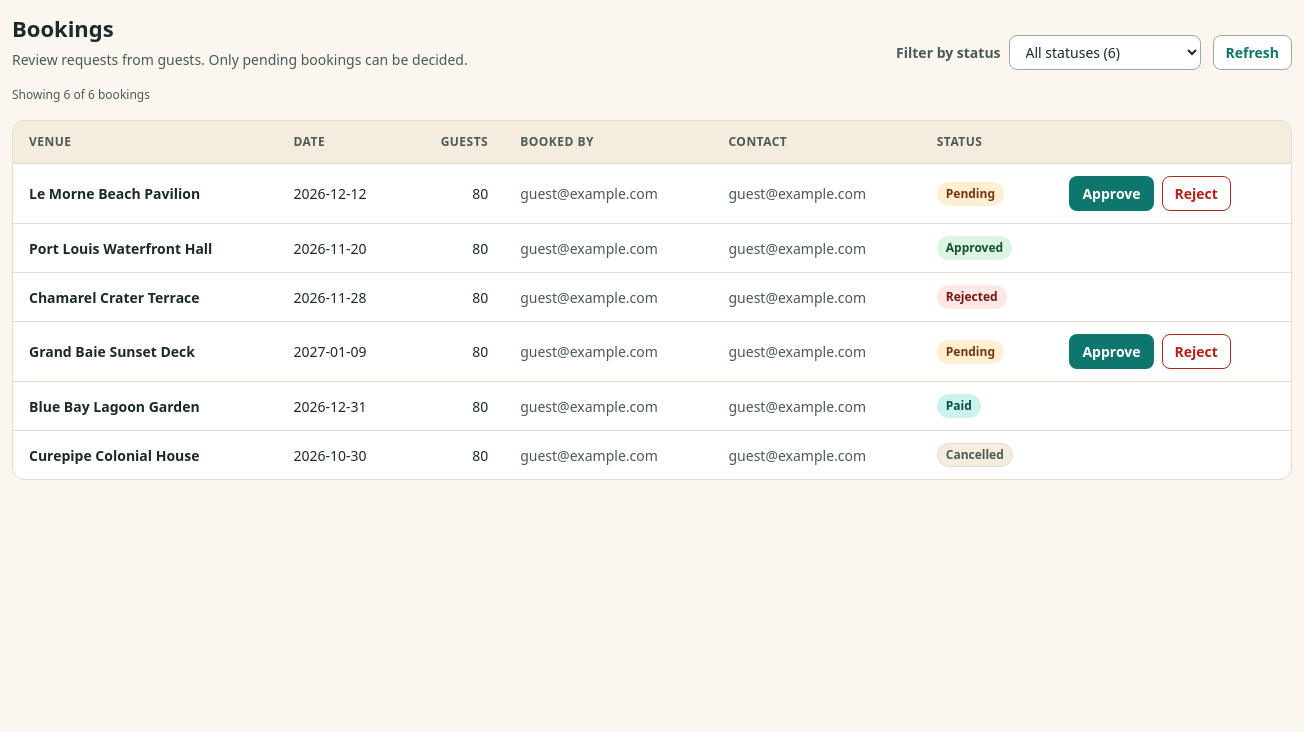
Test: BookingsPanel: approve / reject › rolls the row back and explains why when the server refuses
The width and height of the screenshot is (1304, 732).
Check: the table is shown, box 13,121 -> 1291,479
Click the button "Approve" in the row of "Le Morne Beach Pavilion": coordinates (1111, 194) 1069,176 -> 1154,211
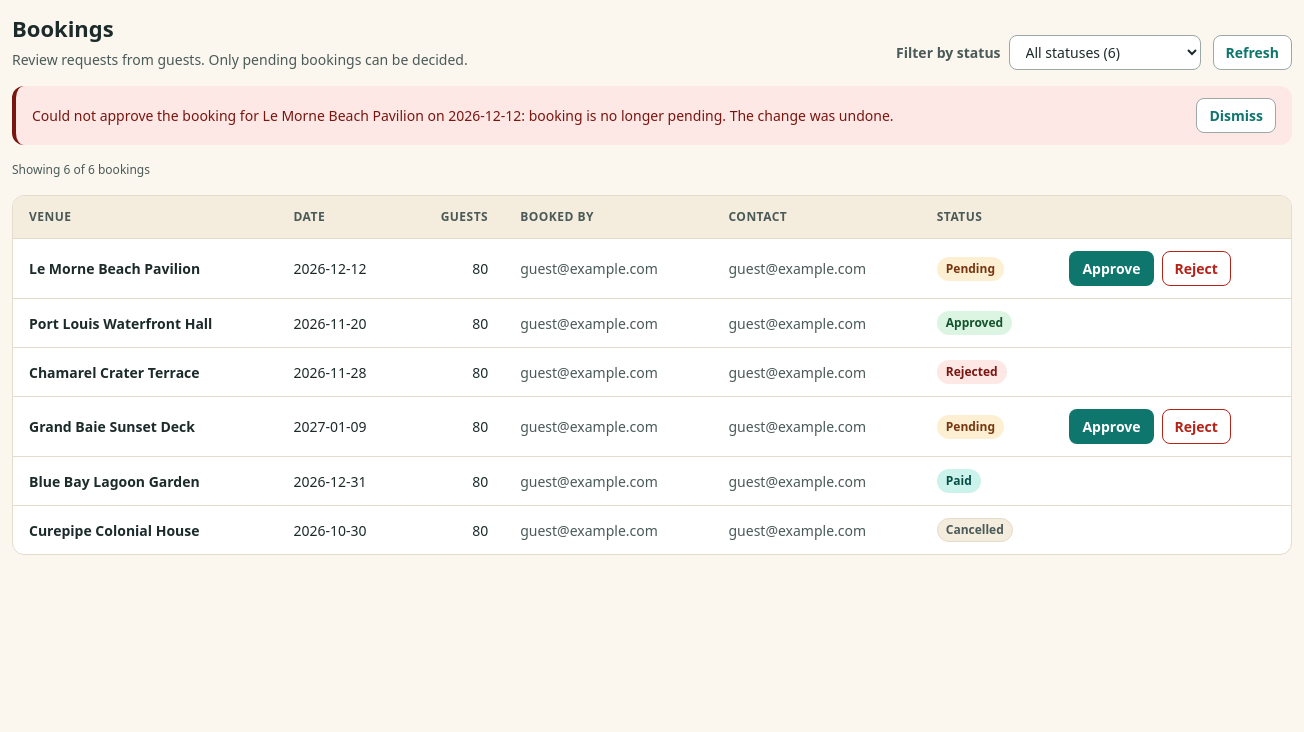
Check: the 1st text "Pending" is shown, box 937,256 -> 1004,280
Check: the 1st message shows "Could not approve the booking for Le Morne Beach Pavilion on 2026-12-12: booking is no longer pending. The change was undone.", box 32,106 -> 894,125
